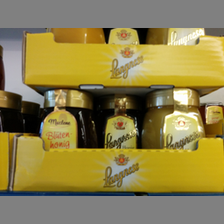honey: (145, 88, 206, 151), (40, 89, 98, 149), (101, 96, 142, 149)
